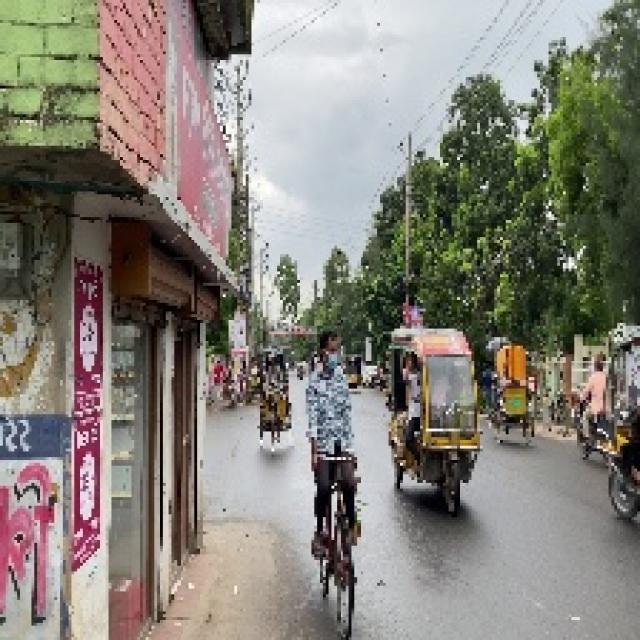rickshaw: (388, 320, 479, 513), (490, 338, 534, 450), (256, 344, 293, 460), (344, 346, 364, 387)
